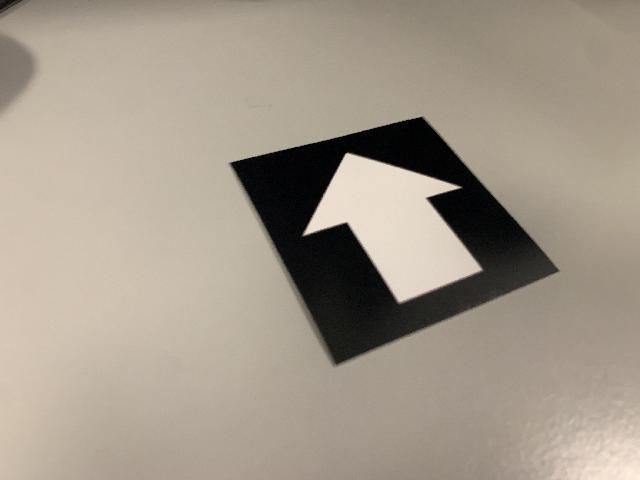up: (225, 115, 562, 370)
